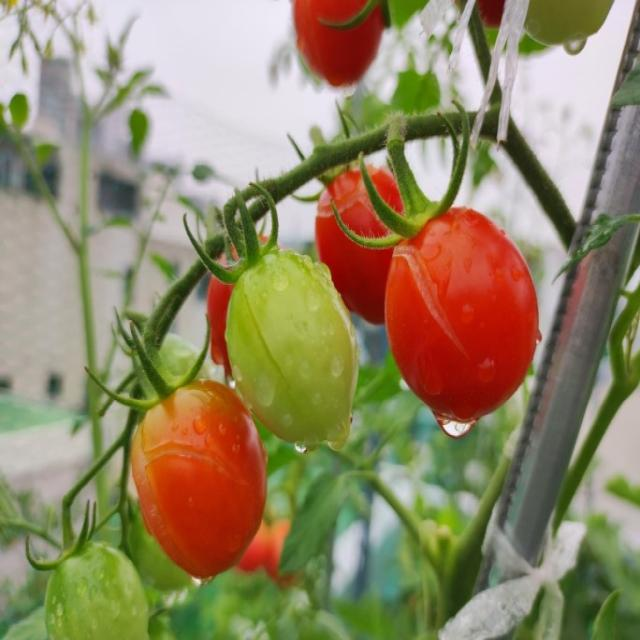level 3: (205, 235, 362, 449), (504, 0, 613, 58)
level 5: (118, 369, 277, 587)
level 6: (367, 200, 544, 430), (298, 137, 426, 327), (201, 215, 287, 382), (278, 0, 390, 102), (463, 0, 518, 36)
